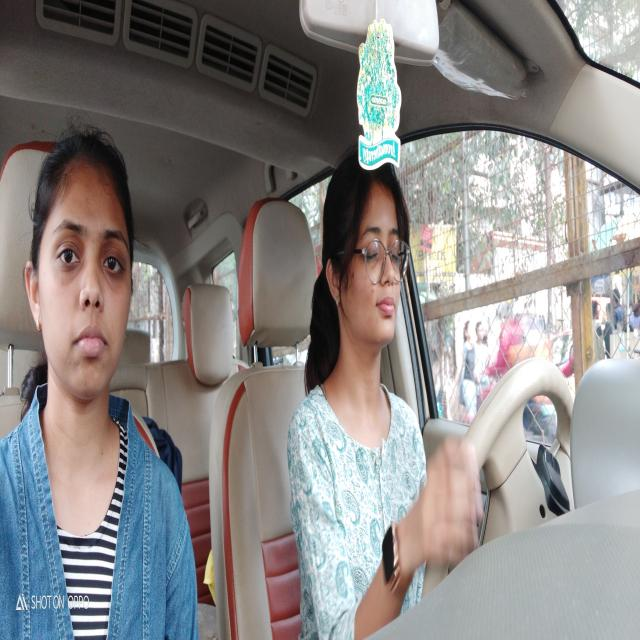drowsy: (324, 158, 408, 352)
person: (26, 142, 136, 403)
